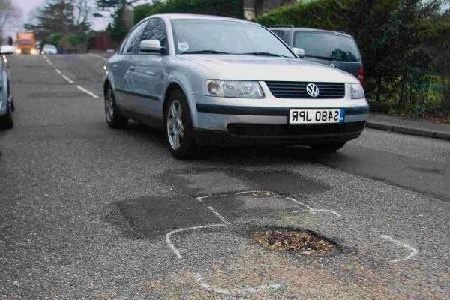pothole: (250, 224, 346, 260), (233, 185, 288, 198)
